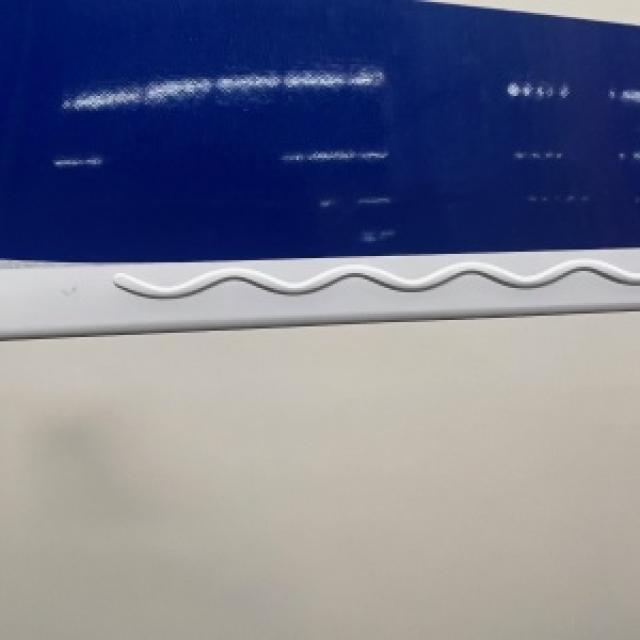healthy: (0, 0, 638, 337)
